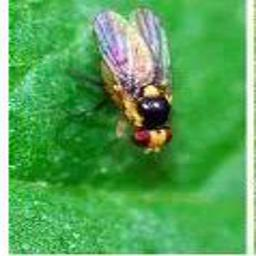liriomyza: (80, 4, 177, 154)
